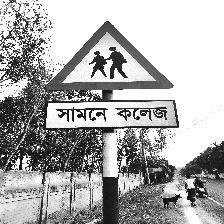College-in-front: (44, 21, 179, 133)
